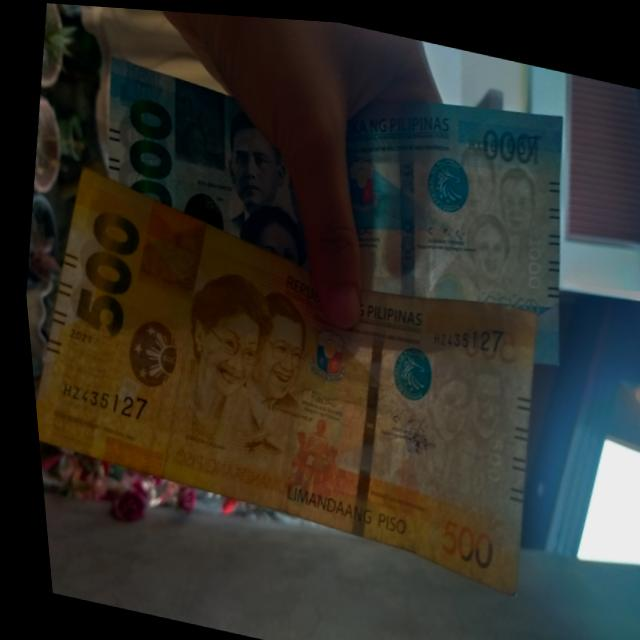concealed_value: (132, 196, 203, 299), (172, 73, 224, 169)
optically_variable_device: (103, 302, 182, 405), (170, 176, 228, 231)
security_thread: (341, 284, 385, 534), (394, 93, 412, 294)
see_through_mark: (412, 477, 495, 525), (464, 270, 539, 313)
serial_number: (414, 299, 513, 367), (50, 379, 146, 423)
value: (56, 196, 151, 342), (115, 92, 184, 206)
value_watermark: (517, 227, 546, 286), (470, 423, 500, 478)
watermark: (440, 127, 547, 286), (405, 338, 511, 476)
